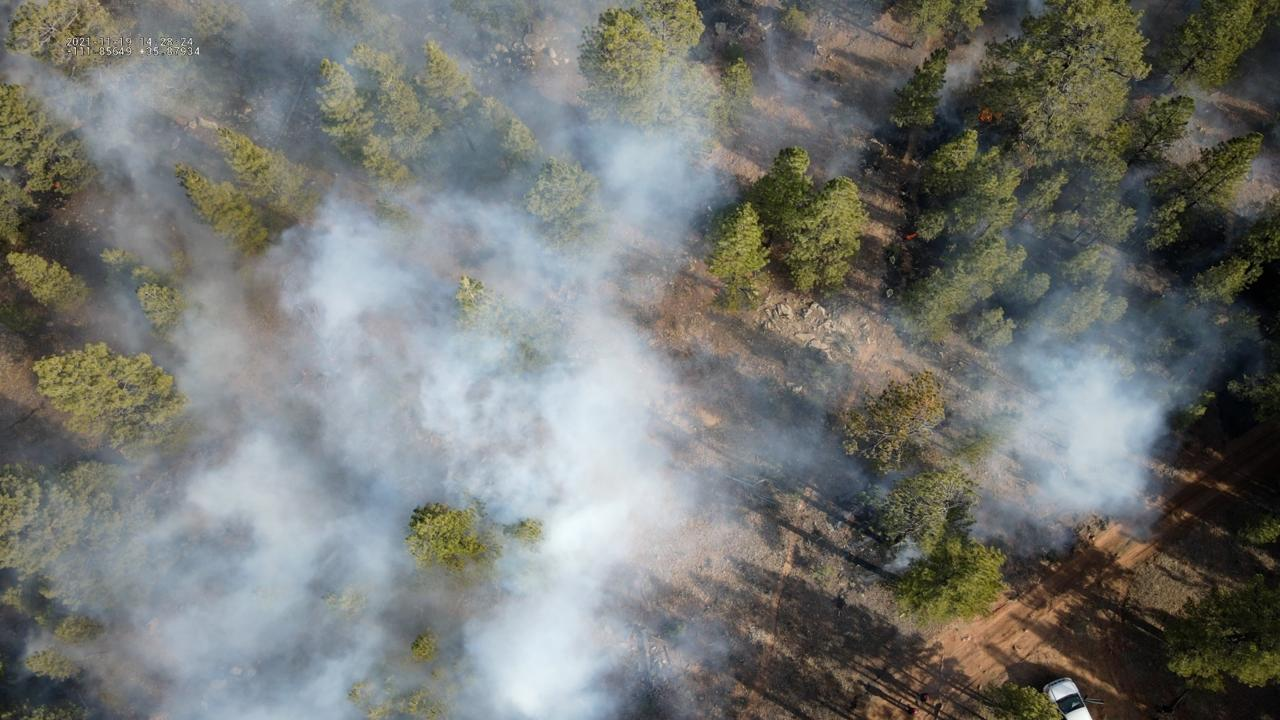fire: (976, 107, 994, 125), (904, 231, 920, 242), (54, 179, 63, 189), (842, 518, 850, 525)
smoke: (0, 0, 1280, 720)
